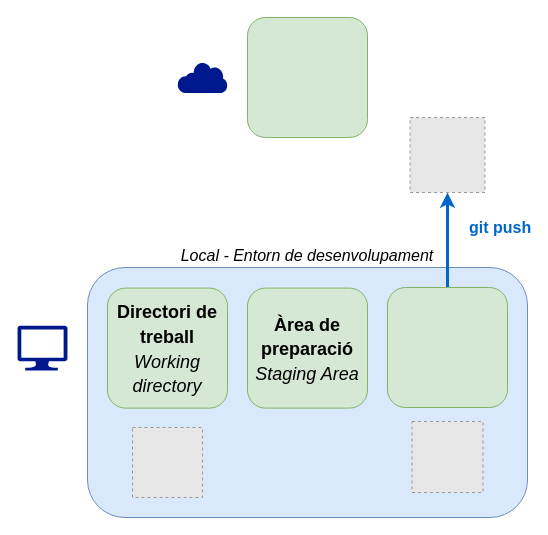
Some shapes in this 548 by 535 pixel diagram are drawn without their labels. Grey dashed boxes stand in for pictures. The shapes that lost their labels are listed below. From the top down, each one's centre as x and y in pixels, then its label:
At point (307, 77): "Repositori Remot Remote Repository".
At point (447, 347): "Repositori local Local Repository".
